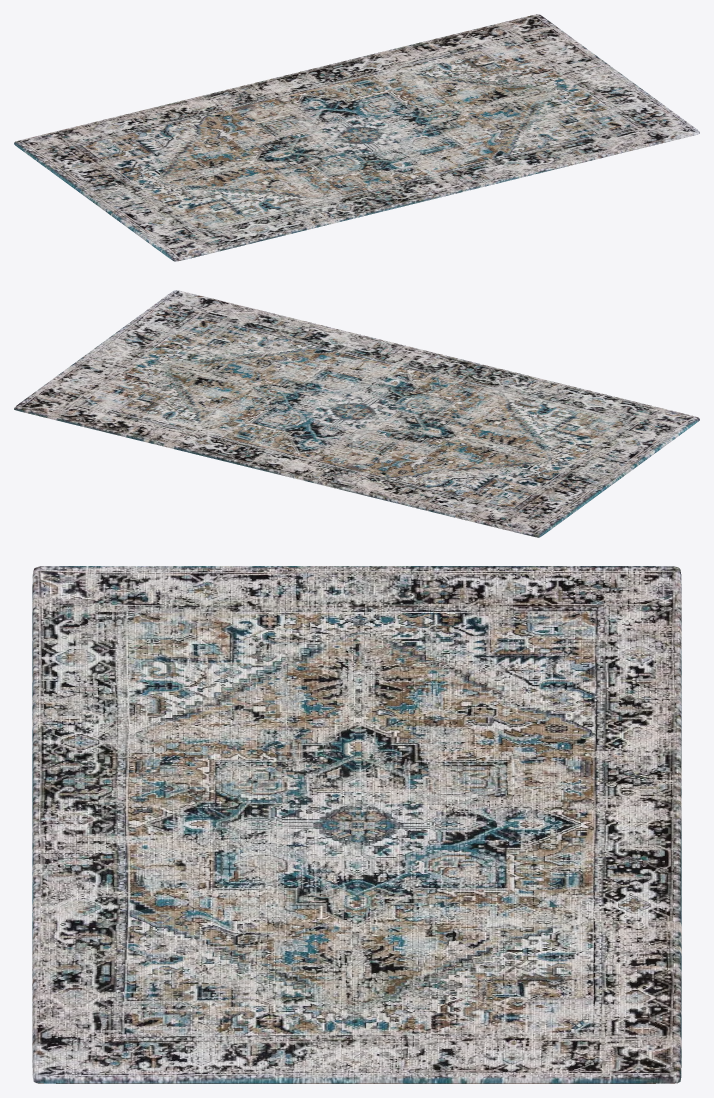
Rendered from antiqueRug-transformed.glb.
The picture shows the model from 3 angles, top to bottom: view 1: azimuth 30°, elevation 25°; view 2: azimuth 150°, elevation 25°; view 3: azimuth 270°, elevation 25°; orthographic projection. The views are drawn at different scales.
Visible parts, largest first — view 1: Object_6; view 2: Object_6; view 3: Object_6.
Part boxes in pixels (x1,y1,x2,y2): Object_6: [14, 14, 699, 261]; Object_6: [14, 290, 699, 537]; Object_6: [32, 566, 681, 1083].
Size of the model in its own units: 1.5 by 0.008 by 0.8.
Materials: 2 (2 with a texture image).
